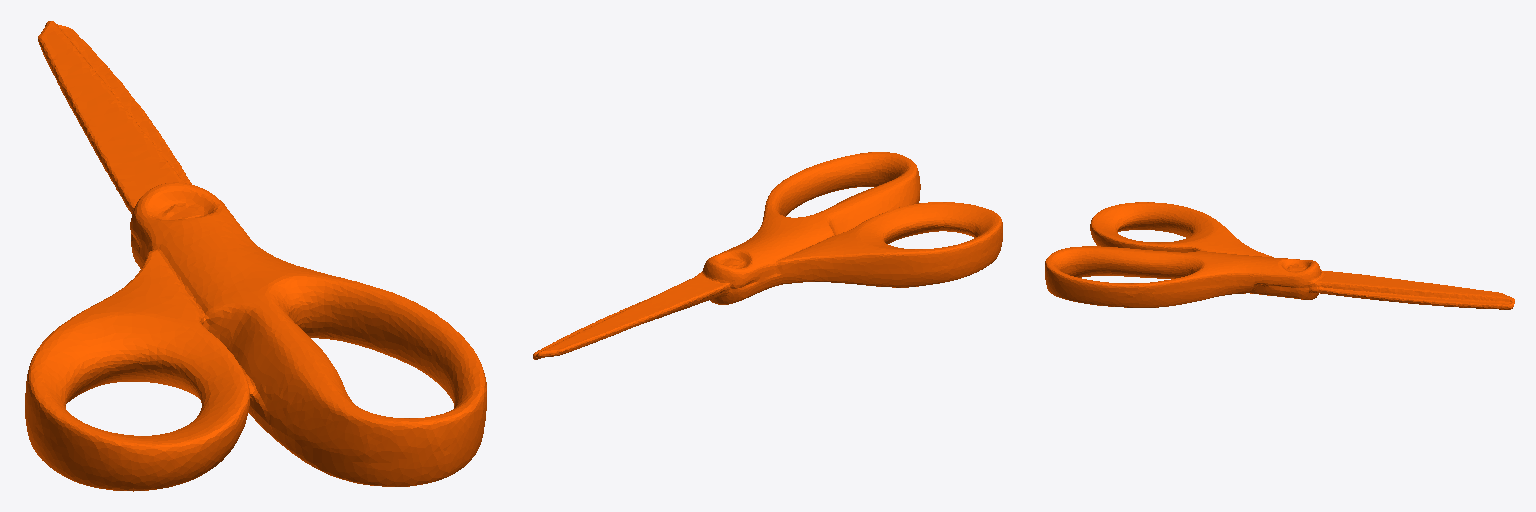
URDF robot description (037_scissors):
<?xml version="1.0" ?>
<robot name="037_scissors">
   <material name="obj_color">
      <color rgba="1.0 0.423529411765 0.0392156862745 1.0"/>
   </material>
   <link name="top">
      <inertial>
         <origin rpy="3.318782876090155e-05 0.0001392010821375199 0.0001704088990937012" xyz="-0.004628484479366946 -0.008973812378897867 -5.49157022403075e-05"/>
         <mass value="0.09173067549641642"/>
         <inertia ixx="0.0001293254220803322" ixy="-3.081751112076754e-05" ixz="-5.31167593973783e-07" iyy="4.307066977926882e-05" iyz="-5.791981774115072e-07" izz="0.0001704017181325217"/>
      </inertial>
      <visual>
         <origin rpy="0 0 0" xyz="0 0 0"/>
         <geometry>
            <mesh filename="top_watertight_tiny.stl" scale="1 1 1"/>
         </geometry>
         <material name="obj_color"/>
      </visual>
      <collision>
         <origin rpy="0 0 0" xyz="0 0 0"/>
         <geometry>
            <mesh filename="top_watertight_tiny.obj" scale="1 1 1"/>
         </geometry>
      </collision>
   </link>
   <link name="bottom">
      <inertial>
         <origin rpy="1.633333333199431e-08 1.633333333199431e-08 1.633333333362855e-08" xyz="0.3464080000000008 0.3464080000000008 0.3464080000000008"/>
         <mass value="0.0009800000000000017"/>
         <inertia ixx="1.633333333253906e-08" ixy="5.447480642029219e-19" ixz="5.447480642029219e-19" iyy="1.633333333253906e-08" iyz="5.447480642029219e-19" izz="1.633333333253906e-08"/>
      </inertial>
      <visual>
         <origin rpy="0 0 0" xyz="0 0 0"/>
         <geometry>
            <mesh filename="bottom_watertight_tiny.stl" scale="1 1 1"/>
         </geometry>
         <material name="obj_color"/>
      </visual>
   </link>
   <joint name="rotation" type="revolute">
      <origin xyz="0 0 0"/>
      <axis xyz="0 0 -1"/>
      <parent link="bottom"/>
      <child link="top"/>
      <dynamics damping="1.0" friction="1.0"/>
      <limit effort="0.1" velocity="0.1" lower="0" upper="0.001"/>
   </joint>
</robot>

--- Render facts (derived) ---
The picture shows the robot from 3 angles, left to right: view 1: azimuth 30°, elevation 25°; view 2: azimuth 150°, elevation 25°; view 3: azimuth 270°, elevation 25°; orthographic projection.
Robot: 037_scissors — 2 links, 1 joints (1 revolute); root link bottom; default pose: all joints at 0.
Links seen in each view (by area): view 1: top; view 2: top; view 3: top.
Boxes of the visible links, x1,y1,x2,y2 form: top: [25, 21, 486, 491]; top: [533, 152, 1002, 359]; top: [1045, 202, 1514, 309].
Size in the robot's own frame: 0.0961 by 0.2015 by 0.0157 metres.
1 mesh visuals loaded from 2 distinct referenced files (1 binary STL); not drawn: 1 (reference not matched to a file when rendering).
